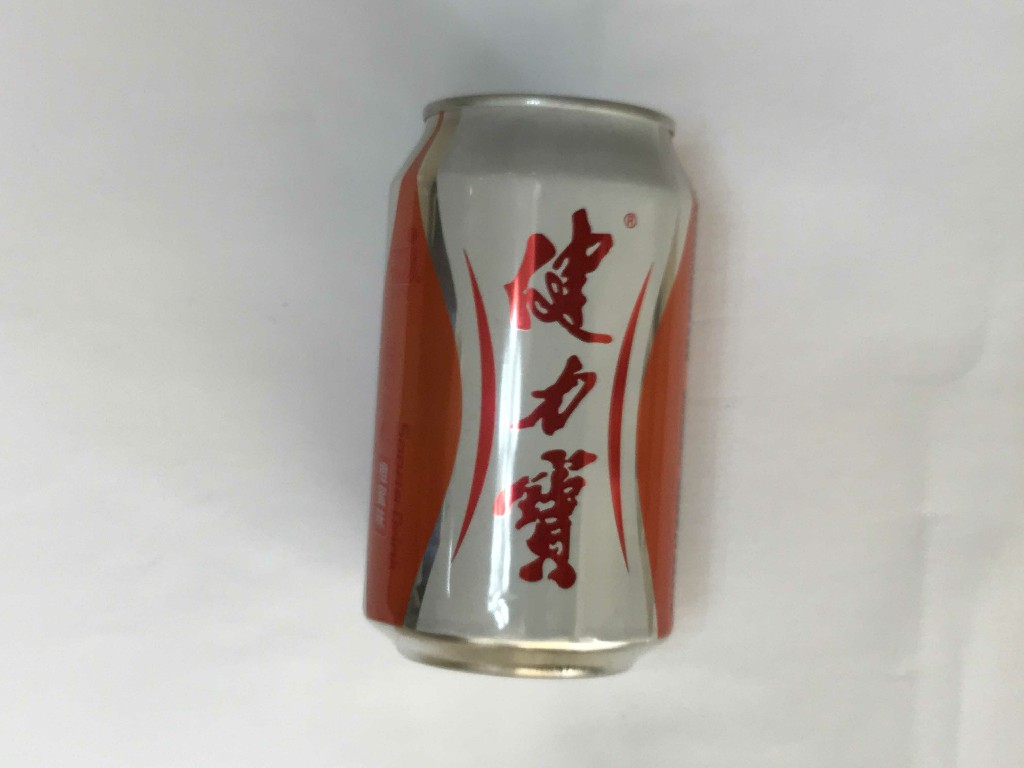can: (358, 90, 704, 692)
